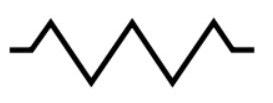resistor: (23, 10, 245, 88)
